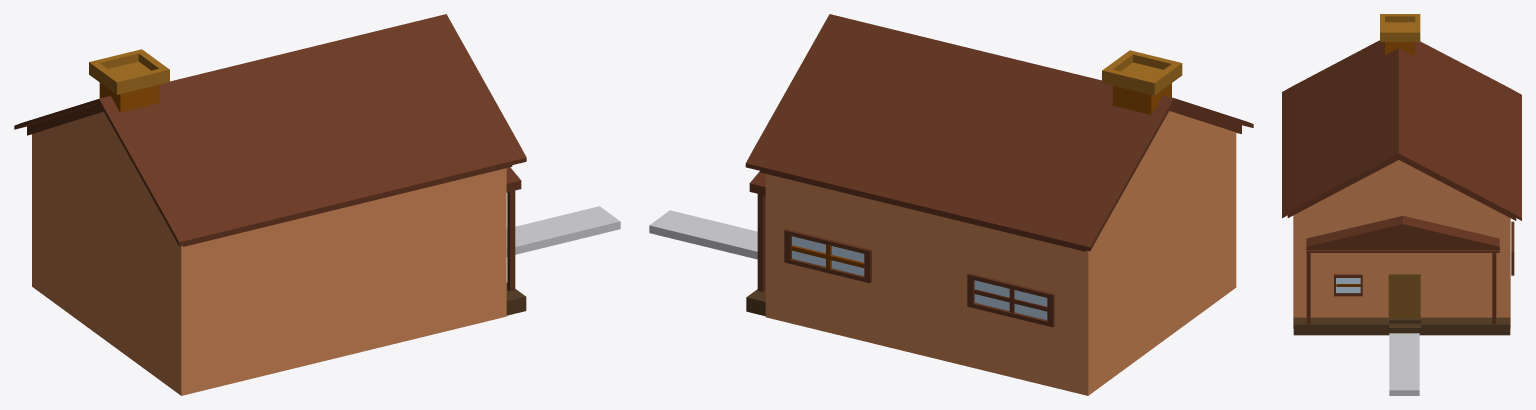
File: Casa2.fbx
3 renders of one model, left to right at view 1: azimuth 30°, elevation 25°; view 2: azimuth 150°, elevation 25°; view 3: azimuth 270°, elevation 25°, orthographic. The views are drawn at different scales.
Parts seen in each view (by area): view 1: casa2; view 2: casa2; view 3: casa2.
Boxes of the visible parts, x1,y1,x2,y2 form: casa2: [14, 14, 620, 395]; casa2: [649, 14, 1253, 395]; casa2: [1282, 14, 1521, 395].
Size of the model in its own units: 1941 by 994 by 1075.
